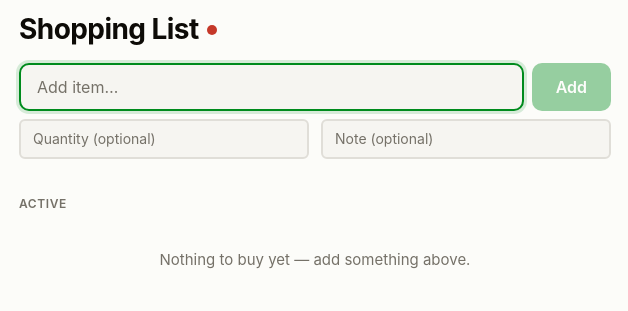
Task 4 — Add and display items › AC3: tap Add button with item name shows item in list
The width and height of the screenshot is (628, 311).
Type "Milk" into the field named "item name". click: (271, 87)
box: [19, 63, 524, 111]
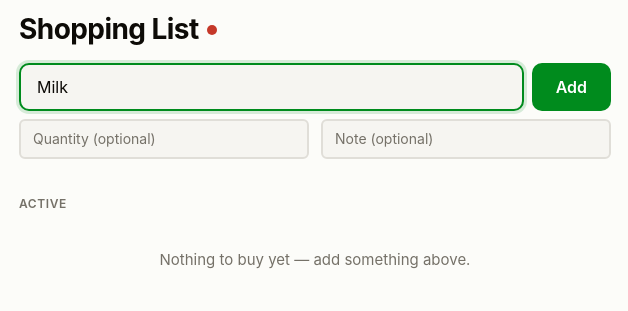
Click the button with aria-label "add item". click: (571, 87)
box: [532, 63, 611, 111]
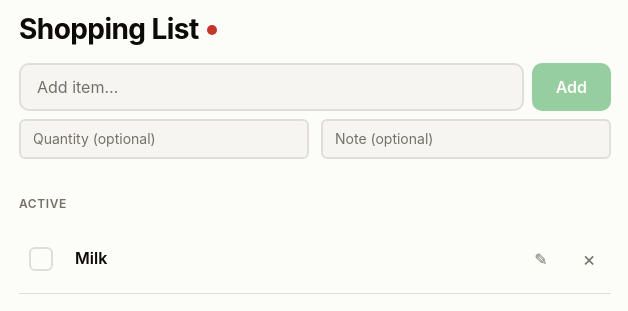
Check: the text "Milk" is shown, box [75, 248, 107, 268]
